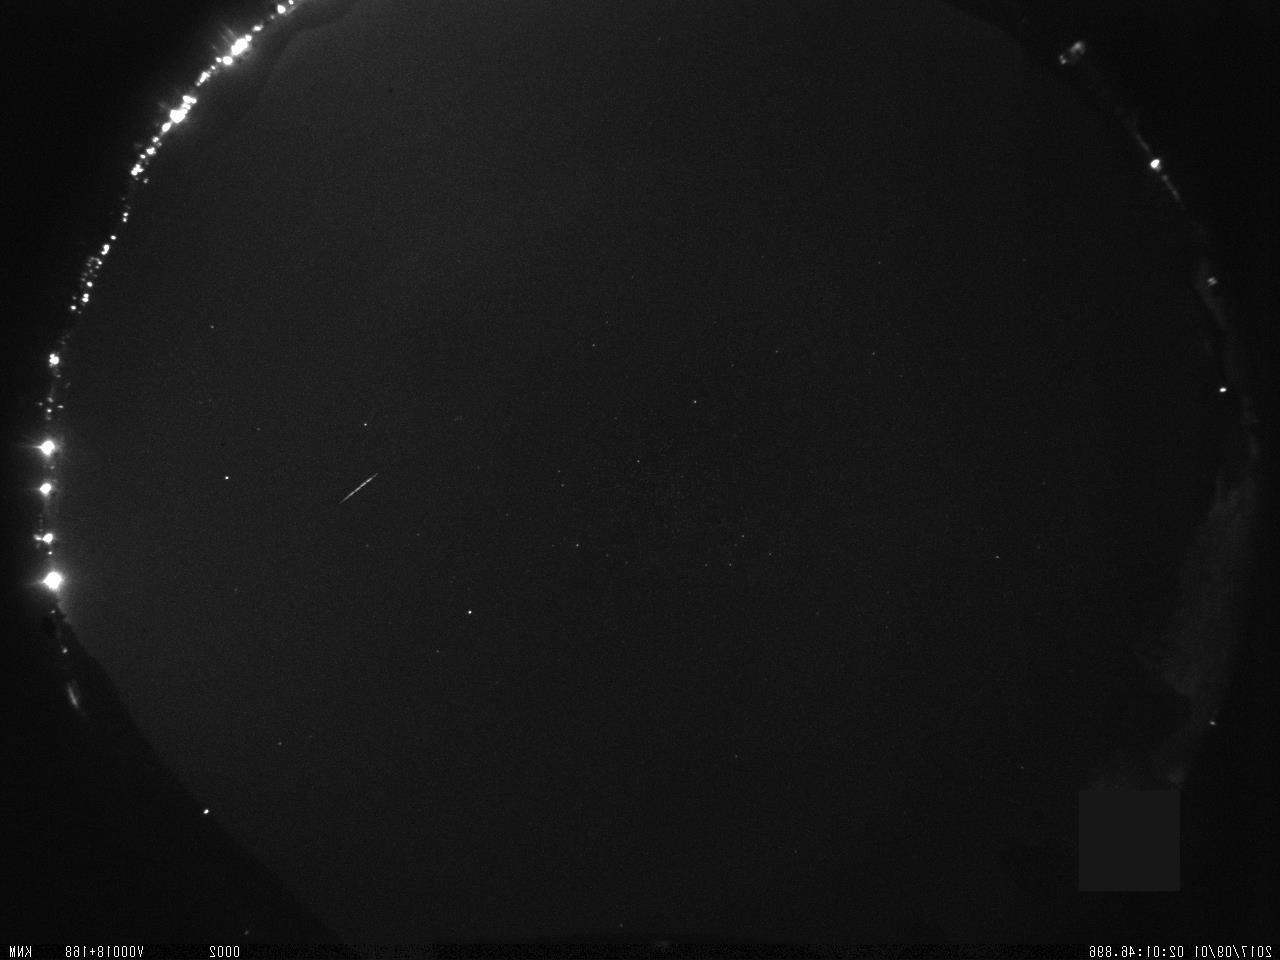meteor: (324, 465, 388, 526)
